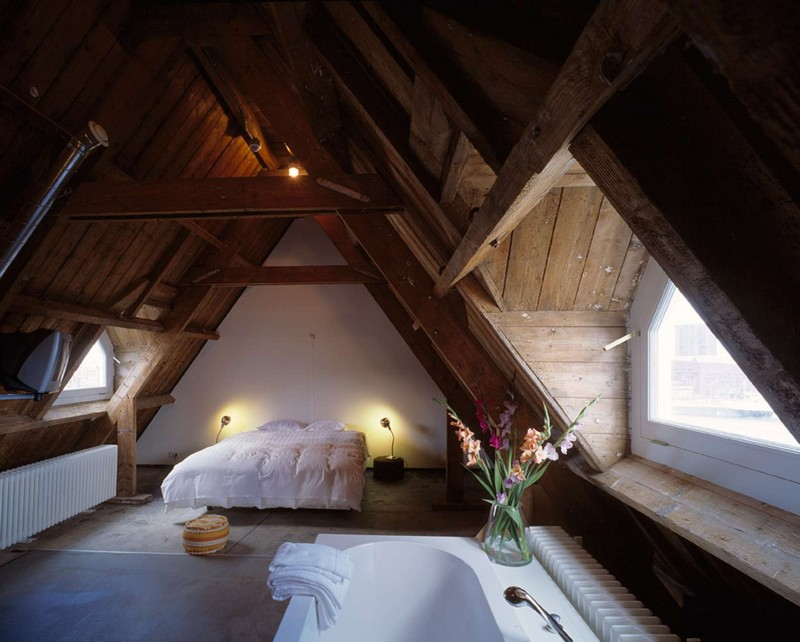bed: (172, 418, 371, 522)
lamp: (376, 412, 407, 482), (205, 406, 235, 463)
